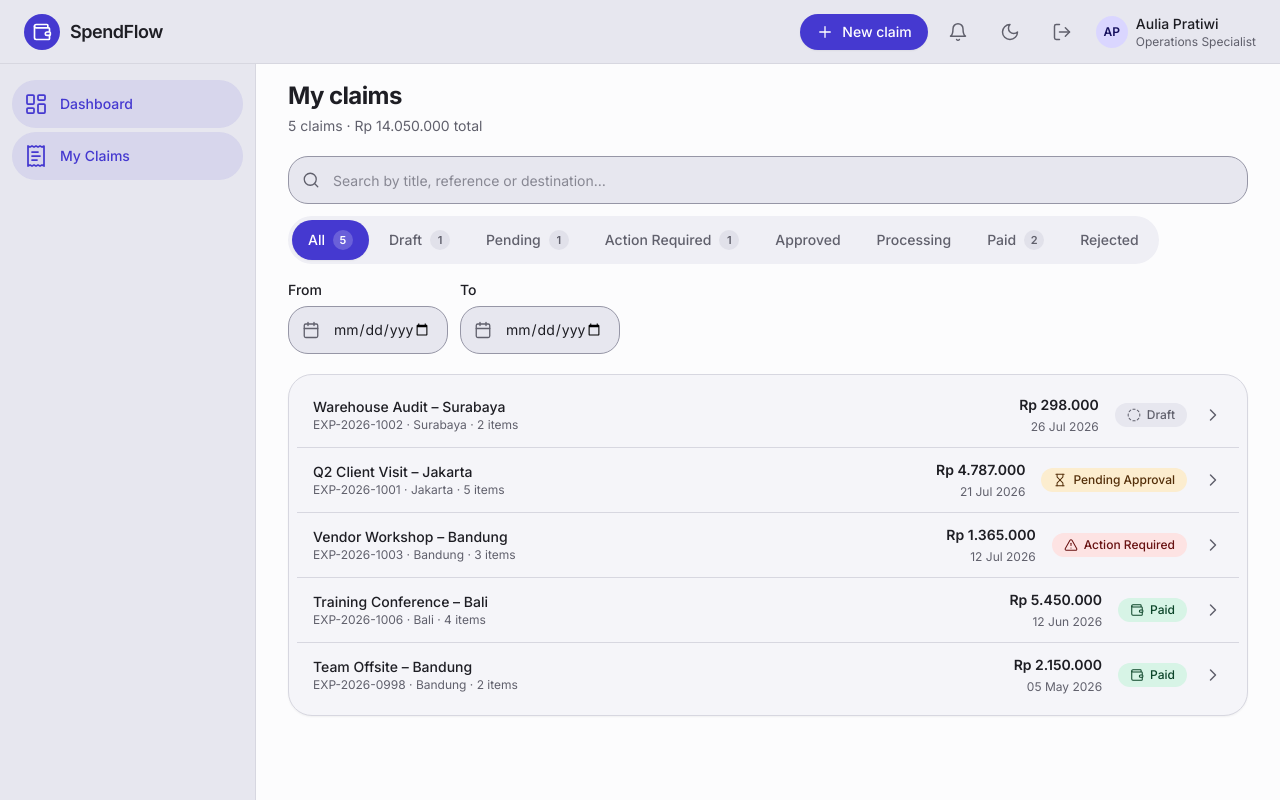
Test case: Claim list — status filter & ?status= deep link › narrows the list when a status segment is clicked
Expected: the text "Q2 Client Visit – Jakarta" is shown, left=313, top=463, right=473, bottom=480
Click the tab "Draft 1" at (420, 240), box left=373, top=220, right=466, bottom=260
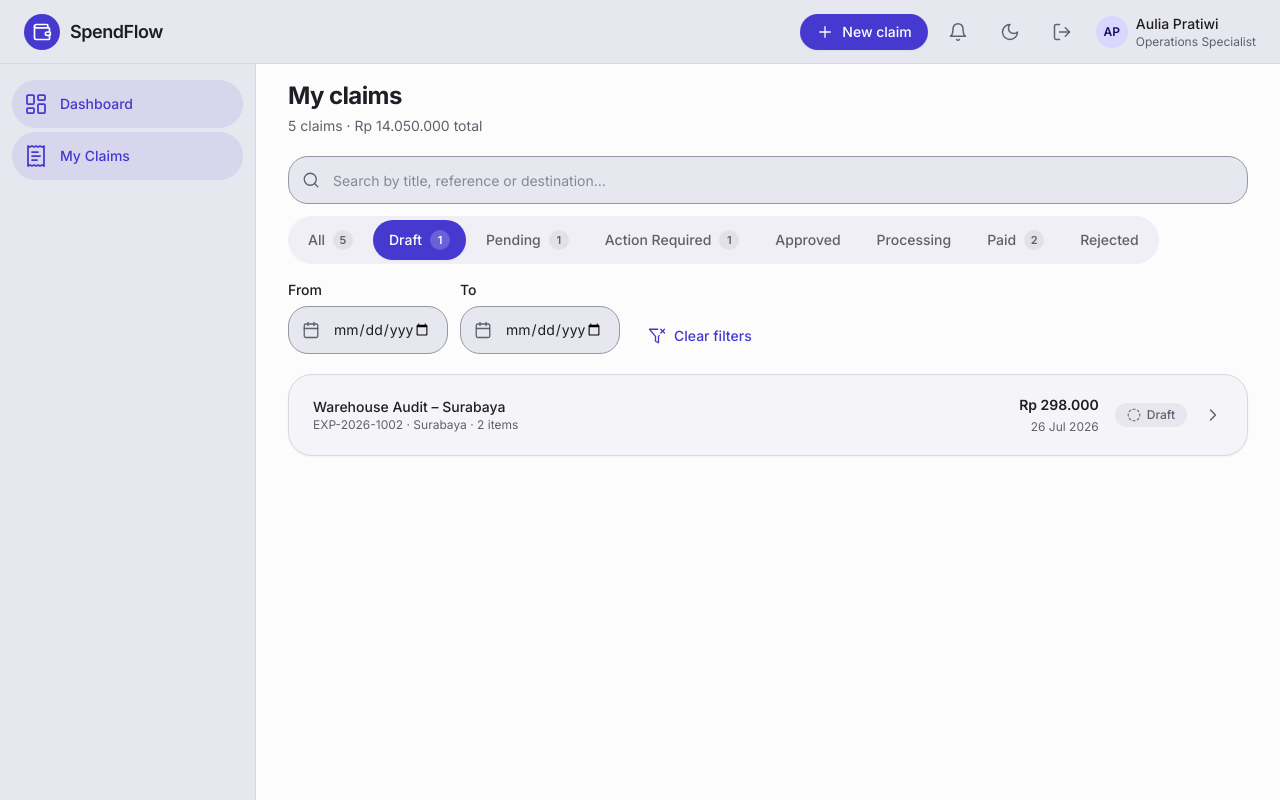
Expected: the text "Warehouse Audit – Surabaya" is shown, left=313, top=398, right=505, bottom=415
Expected: the link "Q2 Client Visit" is gone
